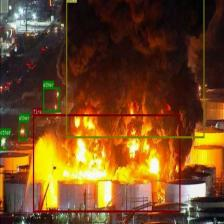fire: (33, 114, 180, 212)
smoke: (66, 0, 204, 137)
